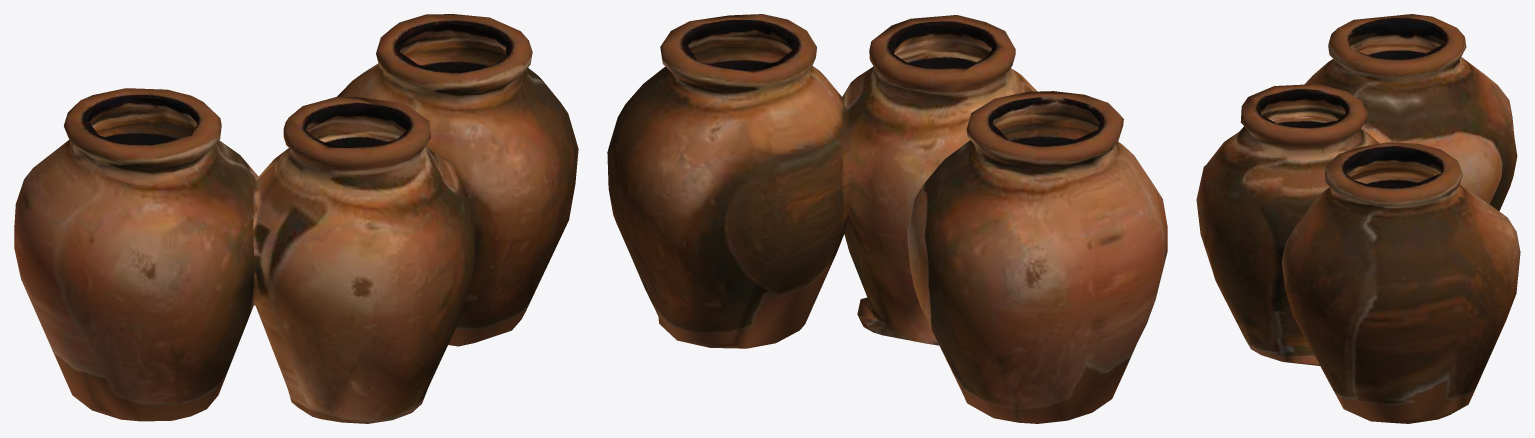
The model's file is toad-prop3d-jars-lo.glb.
3 views of the same model, side by side, from view 1: azimuth 30°, elevation 25°; view 2: azimuth 150°, elevation 25°; view 3: azimuth 270°, elevation 25° (orthographic). The views are drawn at different scales.
Visible parts, largest first — view 1: world; view 2: world; view 3: world.
Part boxes in pixels (<box>): world: <box>14,14,578,423</box>; world: <box>607,14,1167,423</box>; world: <box>1196,14,1520,423</box>.
Size of the model in its own units: 0.1998 by 0.1 by 0.1255.
1 material, 1 textured.
